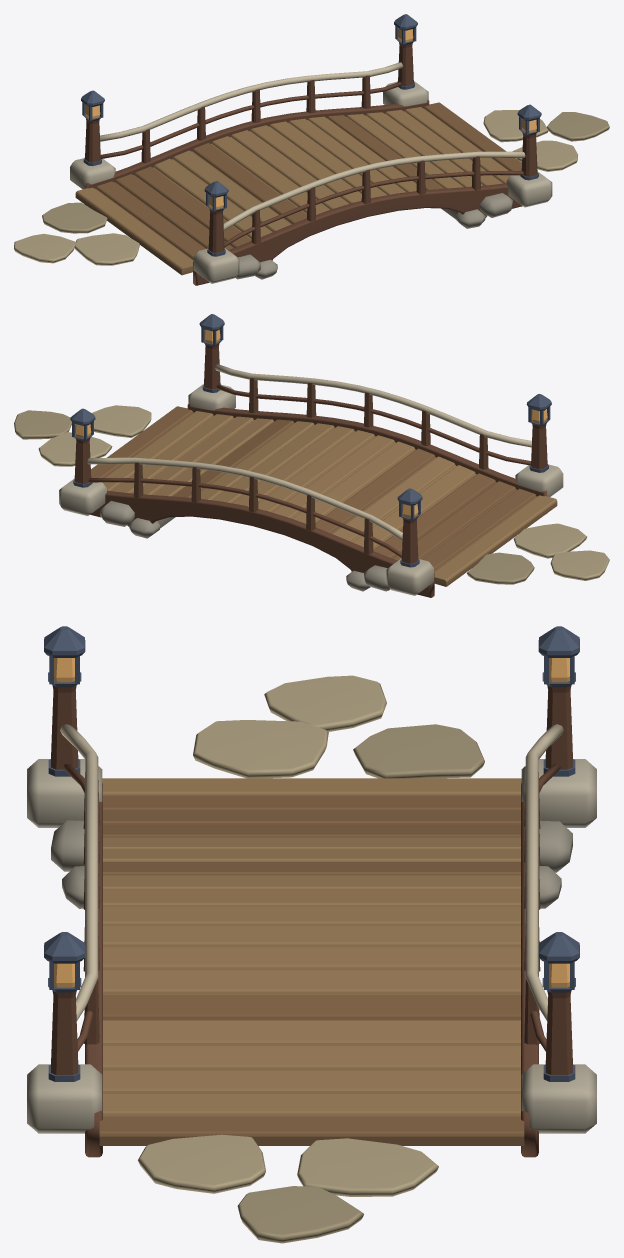
File: ENV_Bridge_Timber_WideBank_A.fbx
The picture shows the model from 3 angles, top to bottom: view 1: azimuth 30°, elevation 25°; view 2: azimuth 150°, elevation 25°; view 3: azimuth 270°, elevation 25°; orthographic projection. The views are drawn at different scales.
Visible parts, largest first — view 1: ENV_Bridge_Timber_WideBank_A_LOD0; view 2: ENV_Bridge_Timber_WideBank_A_LOD0; view 3: ENV_Bridge_Timber_WideBank_A_LOD0.
Part boxes in pixels (x1=…): ENV_Bridge_Timber_WideBank_A_LOD0: x1=14, y1=14, x2=609, y2=285; ENV_Bridge_Timber_WideBank_A_LOD0: x1=14, y1=314, x2=609, y2=597; ENV_Bridge_Timber_WideBank_A_LOD0: x1=27, y1=626, x2=596, y2=1243.
Size of what is drawn, in the model's own units: 11.77 by 2.23 by 5.05.
